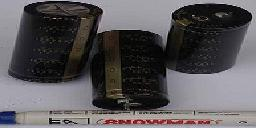Electrolytic-capacitor: (11, 1, 98, 91), (90, 29, 173, 110), (165, 3, 250, 78)
